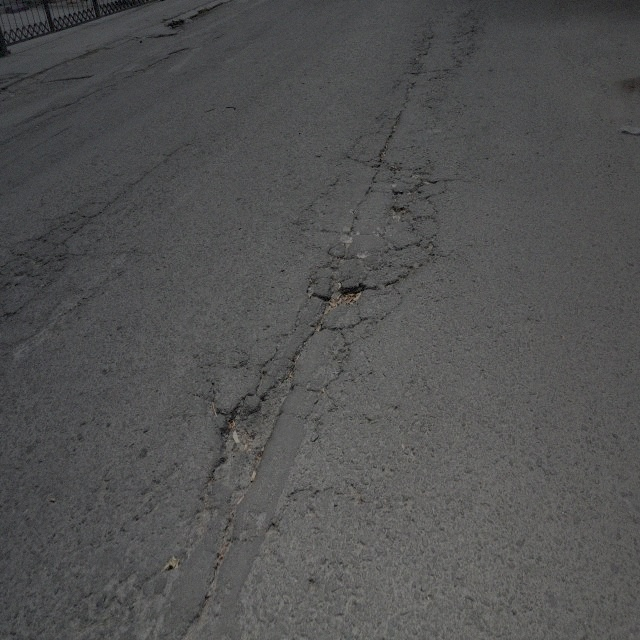pothole: (220, 364, 294, 493), (321, 282, 366, 322)
